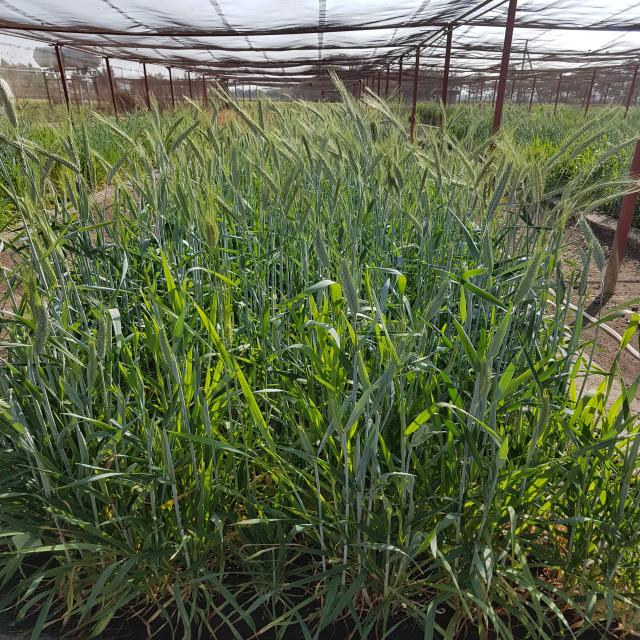healthy_wheat: (9, 239, 315, 640), (328, 208, 640, 433), (325, 428, 640, 640), (2, 78, 215, 194), (233, 88, 440, 203), (531, 95, 640, 214), (21, 204, 321, 241), (448, 97, 526, 208)
